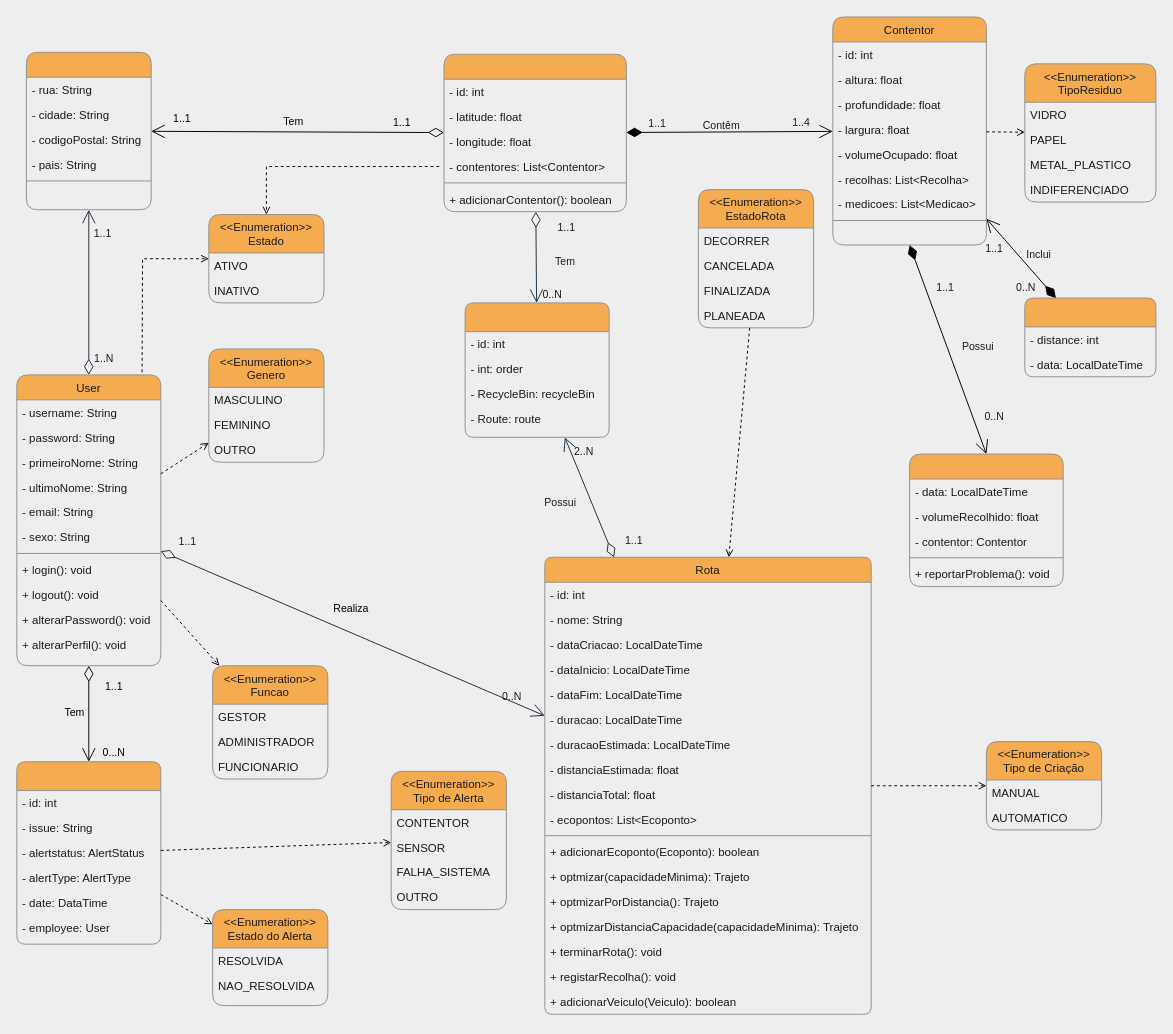
Some shapes in this 1173 by 1034 pixel diagram are drawn without their labels. Each missing label, with the box of its shape:
Alertas: (16, 761, 161, 944)
Ecoponto: (443, 53, 626, 212)
Medicao: (1024, 297, 1156, 377)
Morada: (25, 51, 151, 210)
Ponto de Recolha: (464, 302, 609, 437)
Recolha: (909, 453, 1063, 587)
